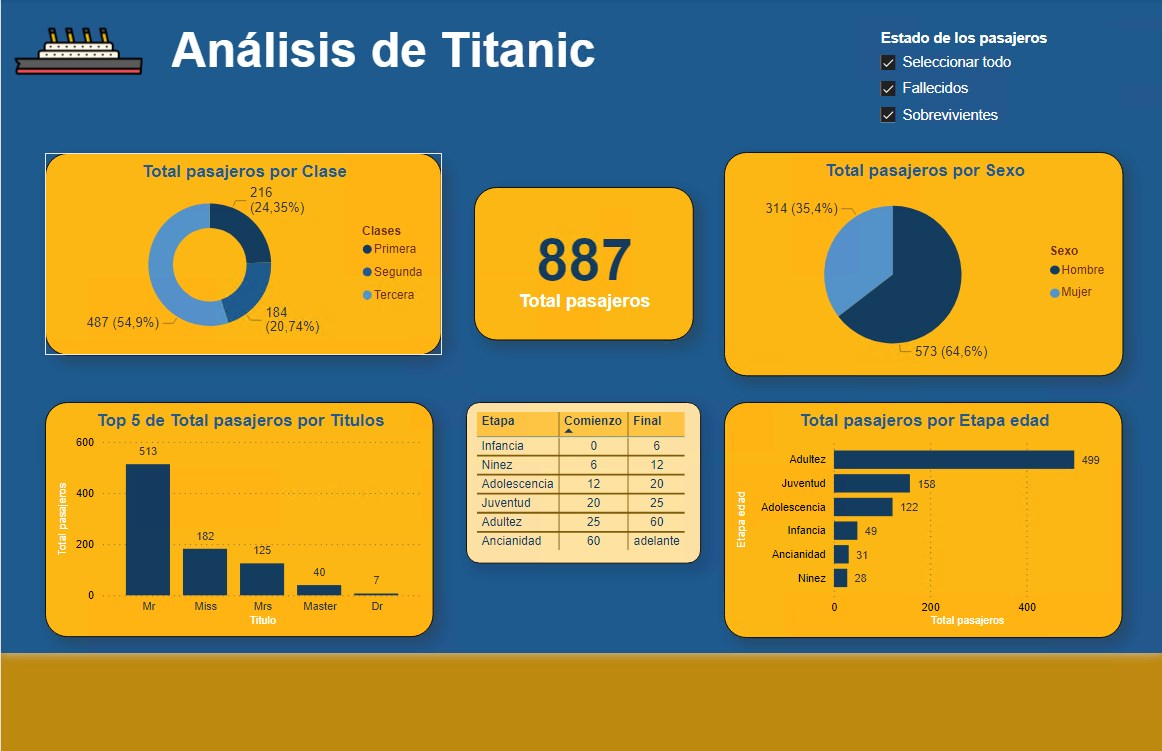

This screenshot's page, from the dashboard's own definition file:
{"tool":"powerbi","page":{"name":"Analisis de Sobrevivientes","canvas":[1280,720],"ordinal":0},"visuals":[{"type":"card","title":"Total de Pasajeros","fields":{"Values":["Titanic.Total pasajeros"]},"box":[520.7,207.2,241.9,169.2],"z":0},{"type":"donutChart","fields":{"Y":["Titanic.Total pasajeros"],"Category":["Titanic.Clase"]},"box":[48.8,169.2,437.2,223.5],"z":1000},{"type":"pieChart","fields":{"Category":["Titanic.Sexo"],"Y":["Titanic.Total pasajeros"]},"box":[796.9,168.8,440.4,246.7],"z":2000},{"type":"lineStackedColumnComboChart","title":"Top 5 de Total pasajeros por Titulos","fields":{"Category":["Titanic.Titulo"],"Y":["Titanic.Total pasajeros"]},"box":[48.9,444.4,428.4,258.6],"z":3000},{"type":"slicer","fields":{"Values":["Titanic.Estado"]},"box":[955.7,29.3,282,126.9],"z":4000},{"type":"clusteredBarChart","fields":{"Category":["Titanic.Etapa edad"],"Y":["Titanic.Total pasajeros"]},"box":[796.9,443.4,439.4,259.6],"z":5000},{"type":"tableEx","fields":{"Values":["Etapa Edad.Etapa","Sum(Etapa Edad.Comienzo)","Etapa Edad.Final"]},"box":[512,443.7,259.3,177.9],"z":6000},{"type":"textbox","box":[183.3,20.6,623.7,82.4],"z":7000},{"type":"image","box":[9.8,0,150.8,115],"z":8000}]}

Visuals, with their boxes in screenshot pixels (x1, y1, x2, y2):
"Total de Pasajeros" card: region(475, 189, 692, 340)
donutChart - Titanic.Total pasajeros x Titanic.Clase: region(53, 155, 444, 355)
pieChart - Titanic.Sexo x Titanic.Total pasajeros: region(723, 154, 1117, 375)
"Top 5 de Total pasajeros por Titulos" lineStackedColumnComboChart: region(53, 401, 436, 632)
slicer - Titanic.Estado: region(865, 29, 1117, 143)
clusteredBarChart - Titanic.Etapa edad x Titanic.Total pasajeros: region(723, 400, 1116, 632)
tableEx - Etapa Edad.Etapa x Sum(Etapa Edad.Comienzo): region(467, 400, 700, 560)
textbox: region(173, 21, 732, 95)
image: region(18, 3, 153, 106)
